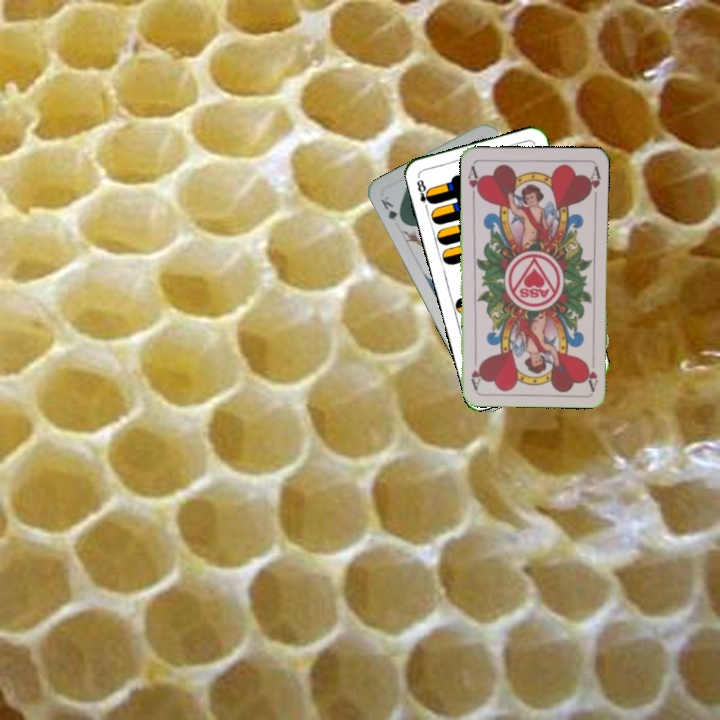E8: (413, 173, 435, 213)
GK: (376, 192, 406, 227)
HA: (464, 162, 483, 202), (582, 351, 600, 392)
